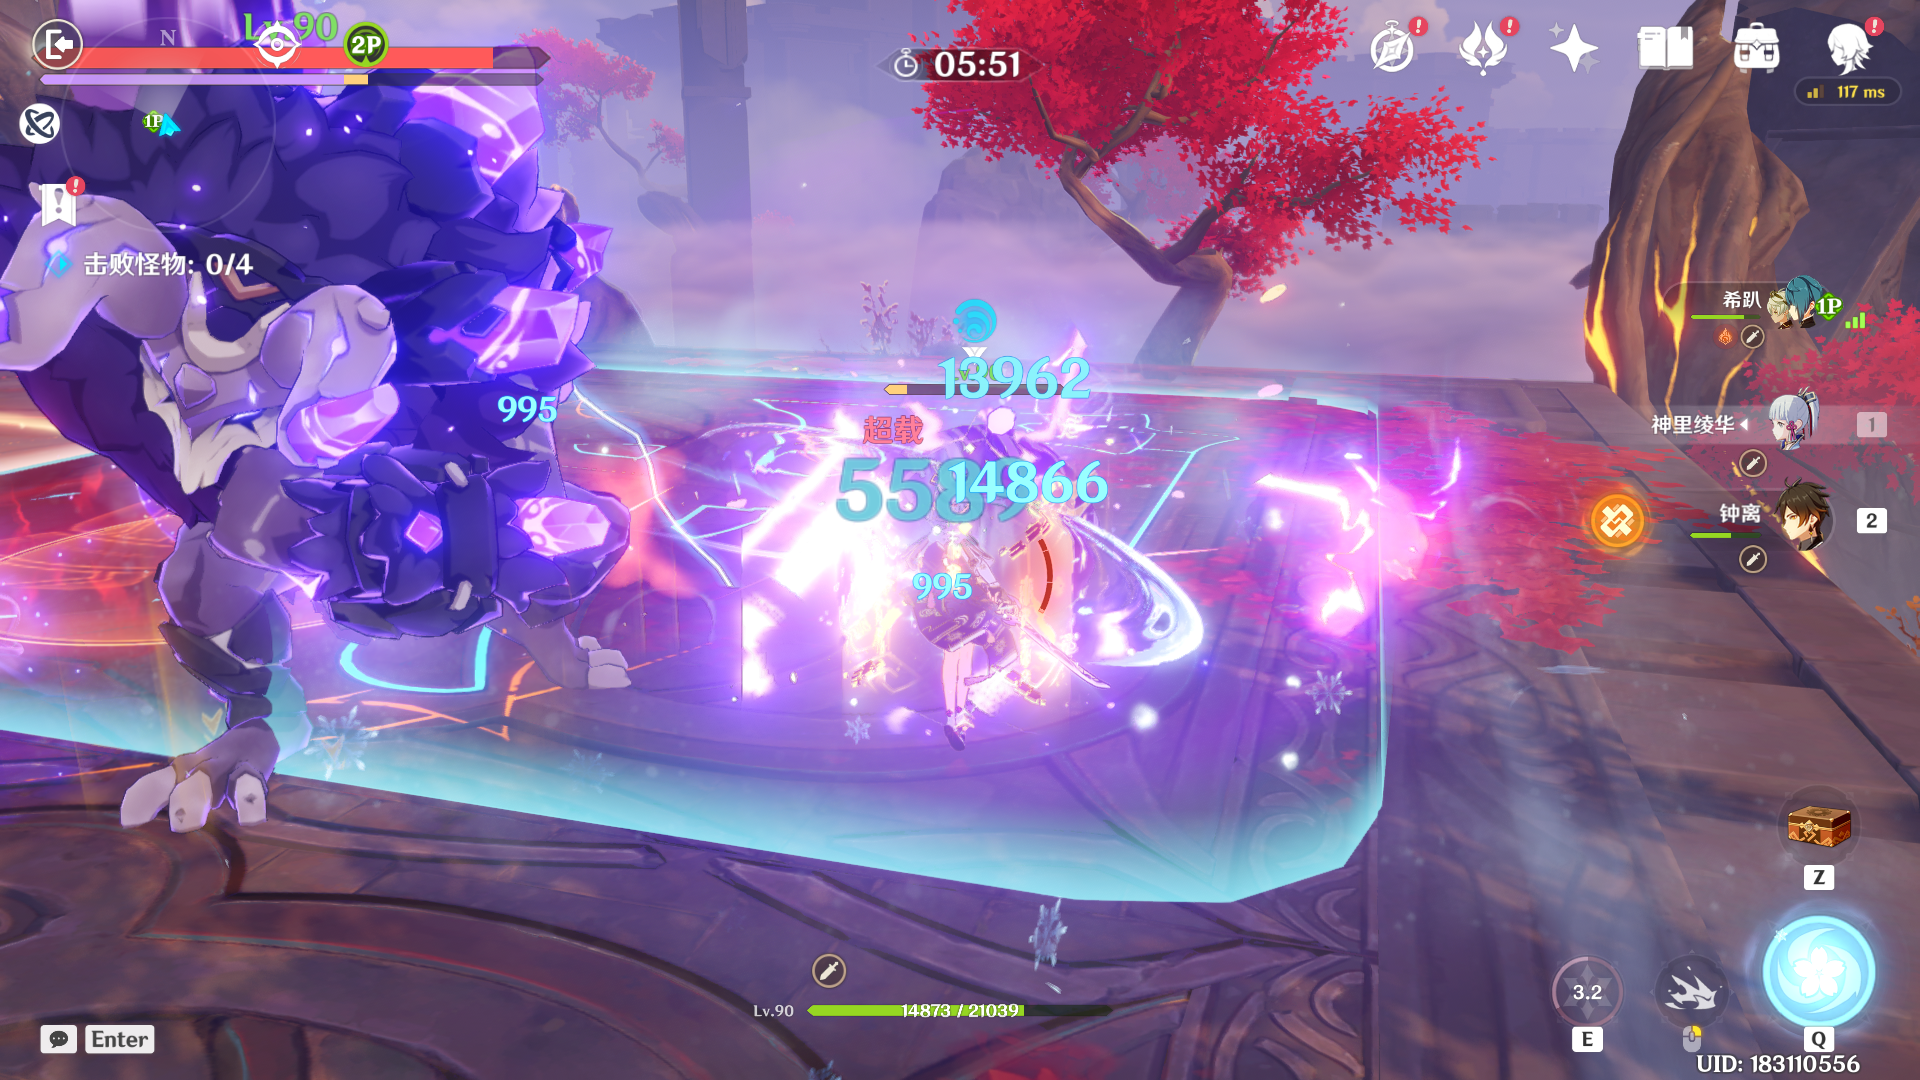bosshili: (1, 1, 673, 876)
